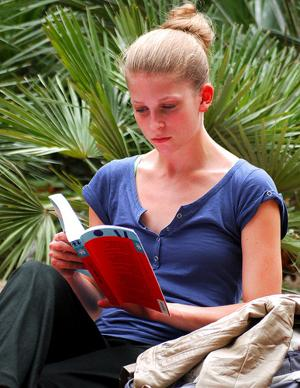person: (2, 5, 289, 388)
